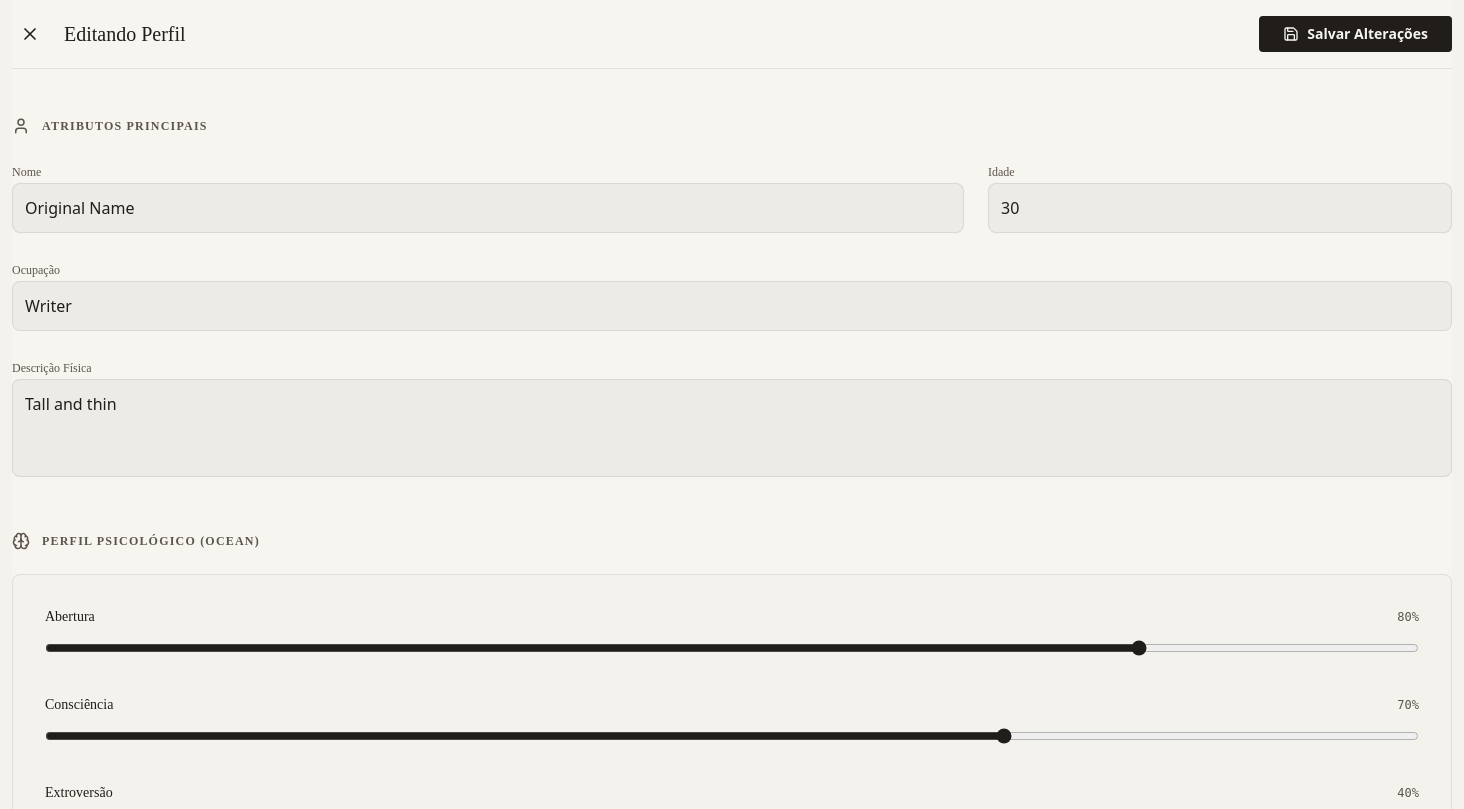
CharacterForm › should show validation error for empty name
Clear the field labelled "Nome". click: (488, 208)
box: [12,183,964,233]
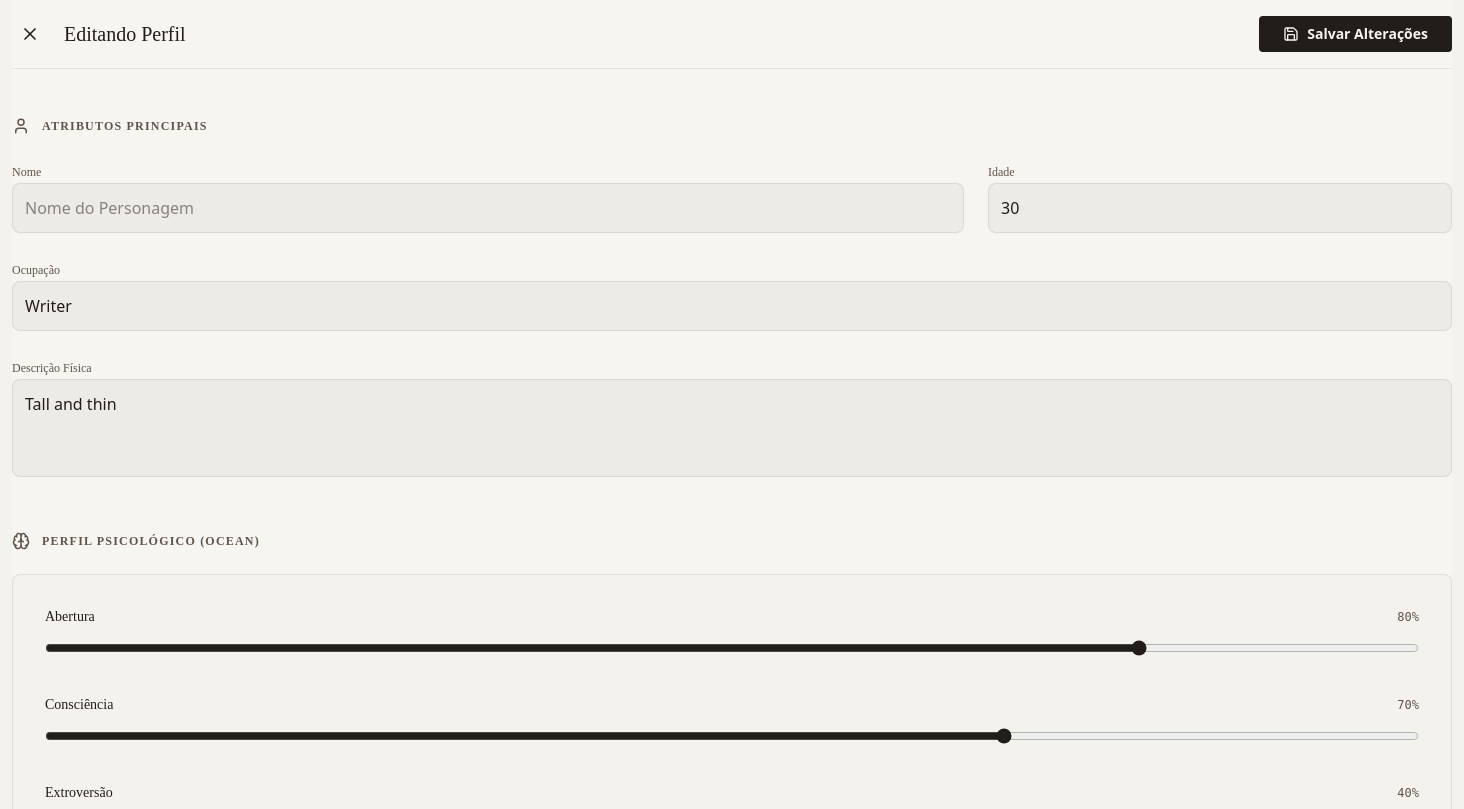
Click the button "Salvar Alterações". click: (1356, 34)
box: [1259,16,1452,52]
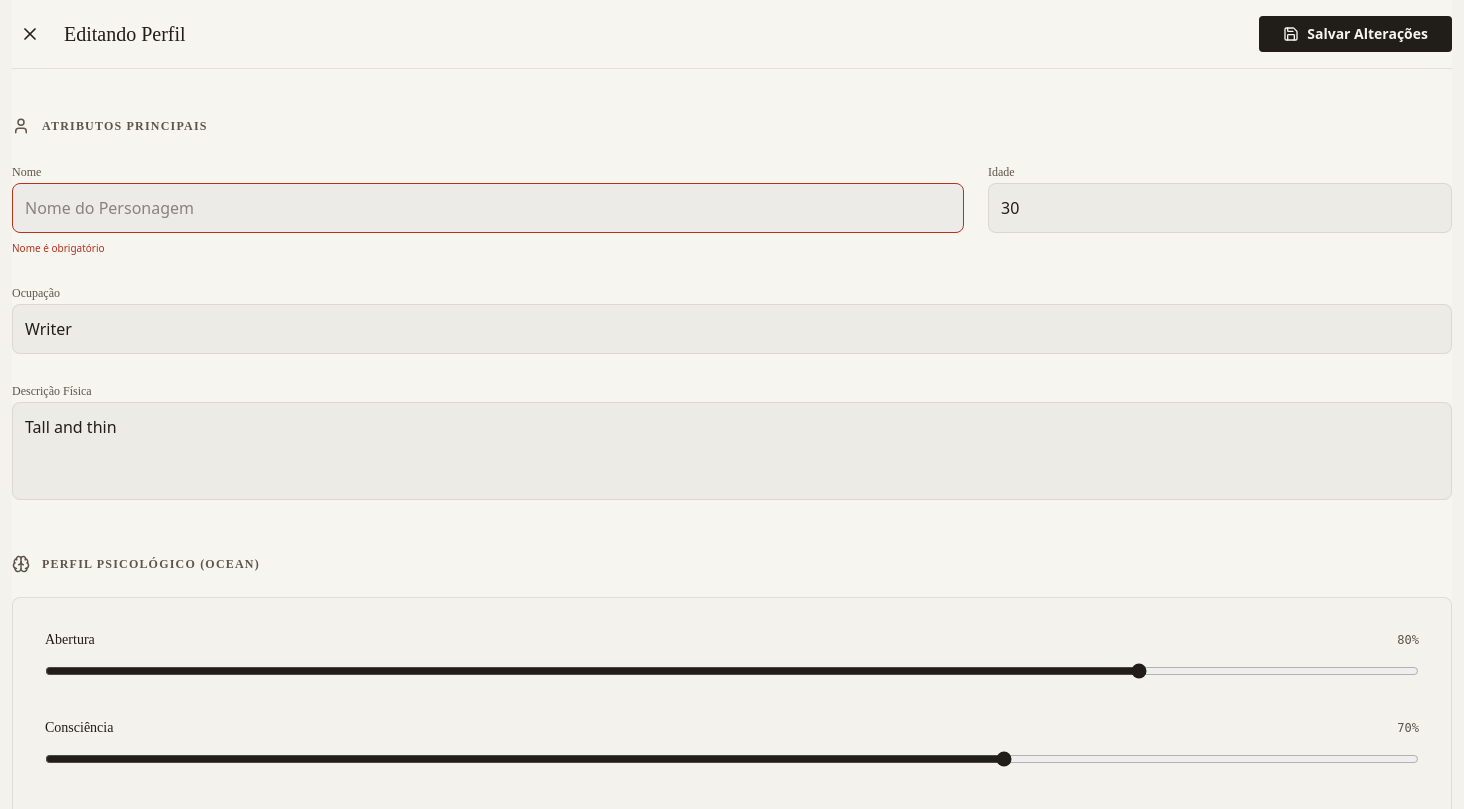
Check: the text "Nome é obrigatório" is shown, box [12,241,105,255]
